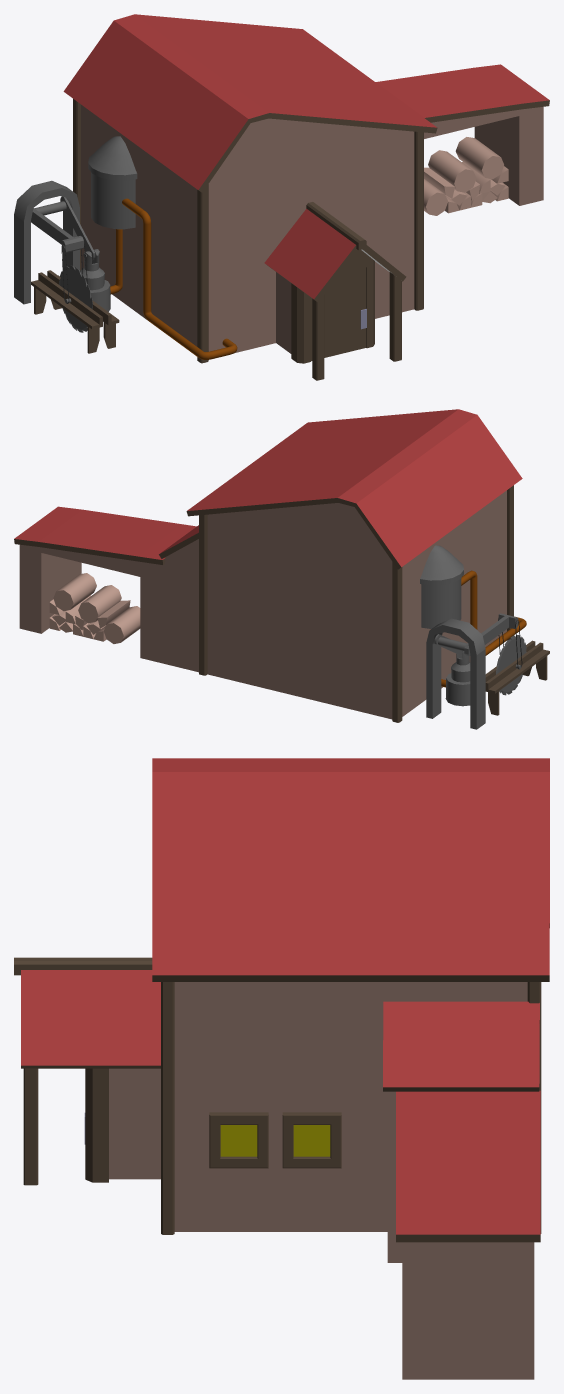
Rendered from Woodworkshop.fbx.
The picture shows the model from 3 angles, top to bottom: view 1: azimuth 30°, elevation 25°; view 2: azimuth 150°, elevation 25°; view 3: azimuth 270°, elevation 25°; orthographic projection. The views are drawn at different scales.
Visible parts, largest first — view 1: Workshop1, Woodpile, Door, Sawblade; view 2: Workshop1, Woodpile, Sawblade; view 3: Workshop1.
Part boxes in pixels (<box>): Workshop1: <box>14,14,549,380</box>; Woodpile: <box>424,137,508,215</box>; Door: <box>311,267,366,361</box>; Sawblade: <box>59,265,92,332</box>; Workshop1: <box>14,409,549,729</box>; Woodpile: <box>49,573,140,643</box>; Sawblade: <box>495,635,526,695</box>; Workshop1: <box>14,758,549,1379</box>.
Size of the model in its own units: 11.67 by 5.26 by 7.31.
